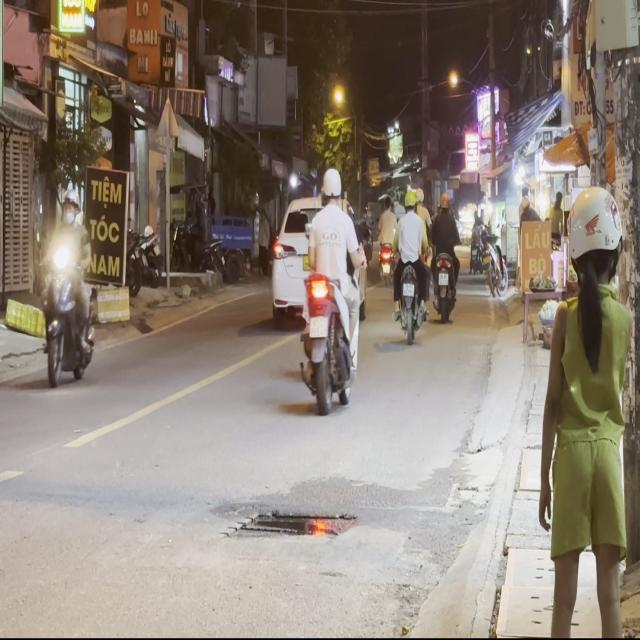helmet: (566, 183, 623, 284), (320, 166, 341, 204), (61, 184, 79, 220)
licenseplate: (296, 164, 362, 410), (39, 181, 97, 387)
nohelmet: (309, 316, 328, 337)
